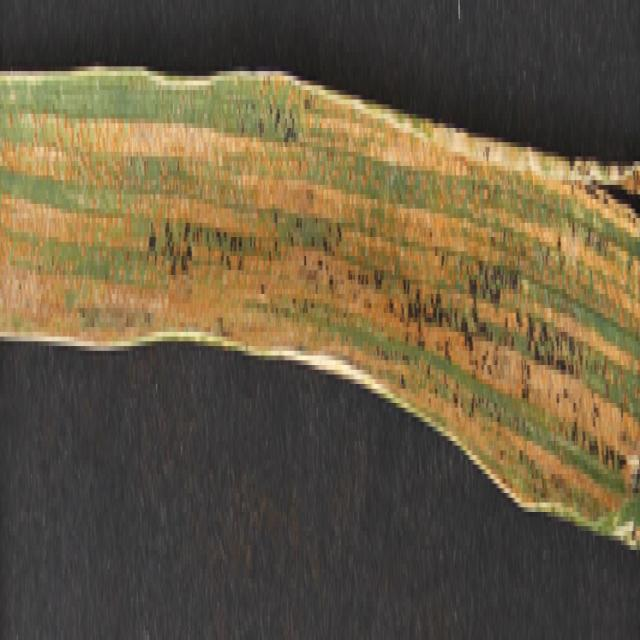leaf rust: (1, 71, 639, 503)
